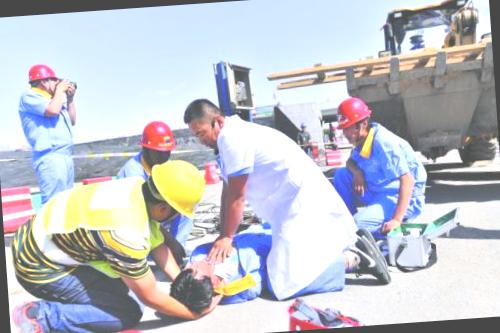no_helmet: (166, 256, 222, 314), (182, 94, 235, 154)
